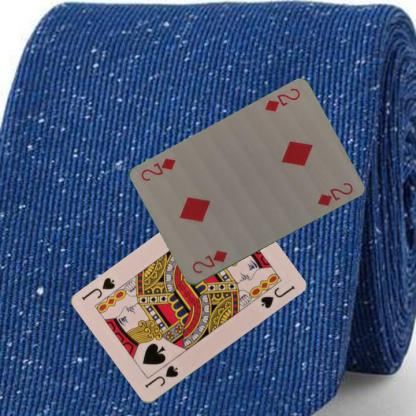2d: (262, 85, 302, 114), (189, 247, 229, 275)
Js: (142, 363, 180, 390)
